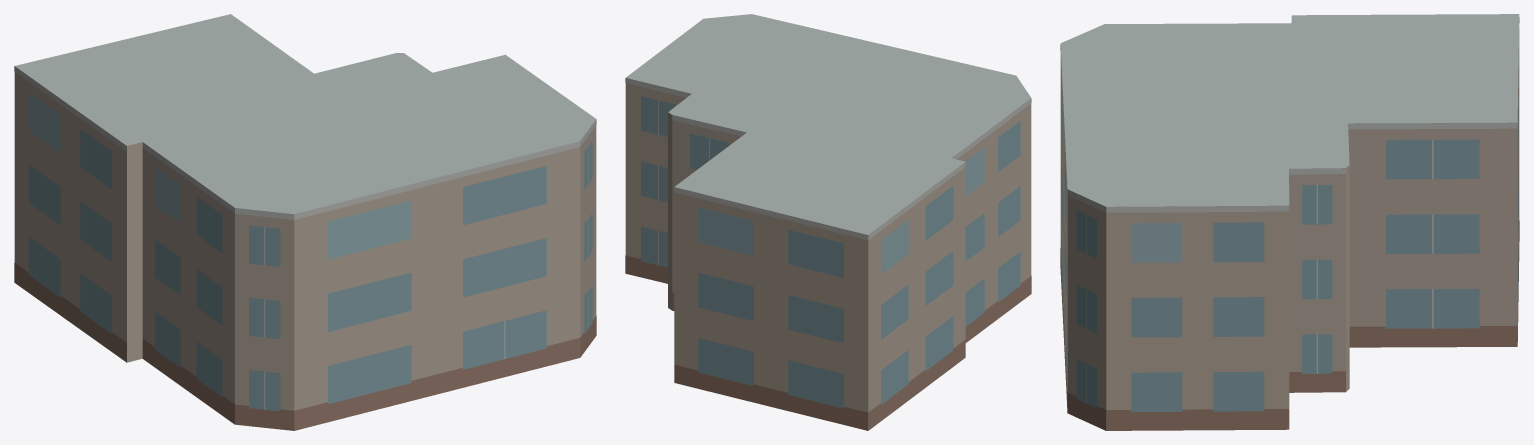
Rendered from survey-upis-32514479.glb.
3 views of the same model, side by side, from view 1: azimuth 30°, elevation 25°; view 2: azimuth 150°, elevation 25°; view 3: azimuth 270°, elevation 25° (orthographic). The views are drawn at different scales.
Parts seen in each view (by area): view 1: survey-upis-32514479.tmp; view 2: survey-upis-32514479.tmp; view 3: survey-upis-32514479.tmp.
Part boxes in pixels (x1,y1,x2,y2): survey-upis-32514479.tmp: (14, 14, 596, 430); survey-upis-32514479.tmp: (625, 14, 1031, 430); survey-upis-32514479.tmp: (1060, 14, 1519, 430).
Bounding box in the file's own units: 16.9 × 9.15 × 16.99.
